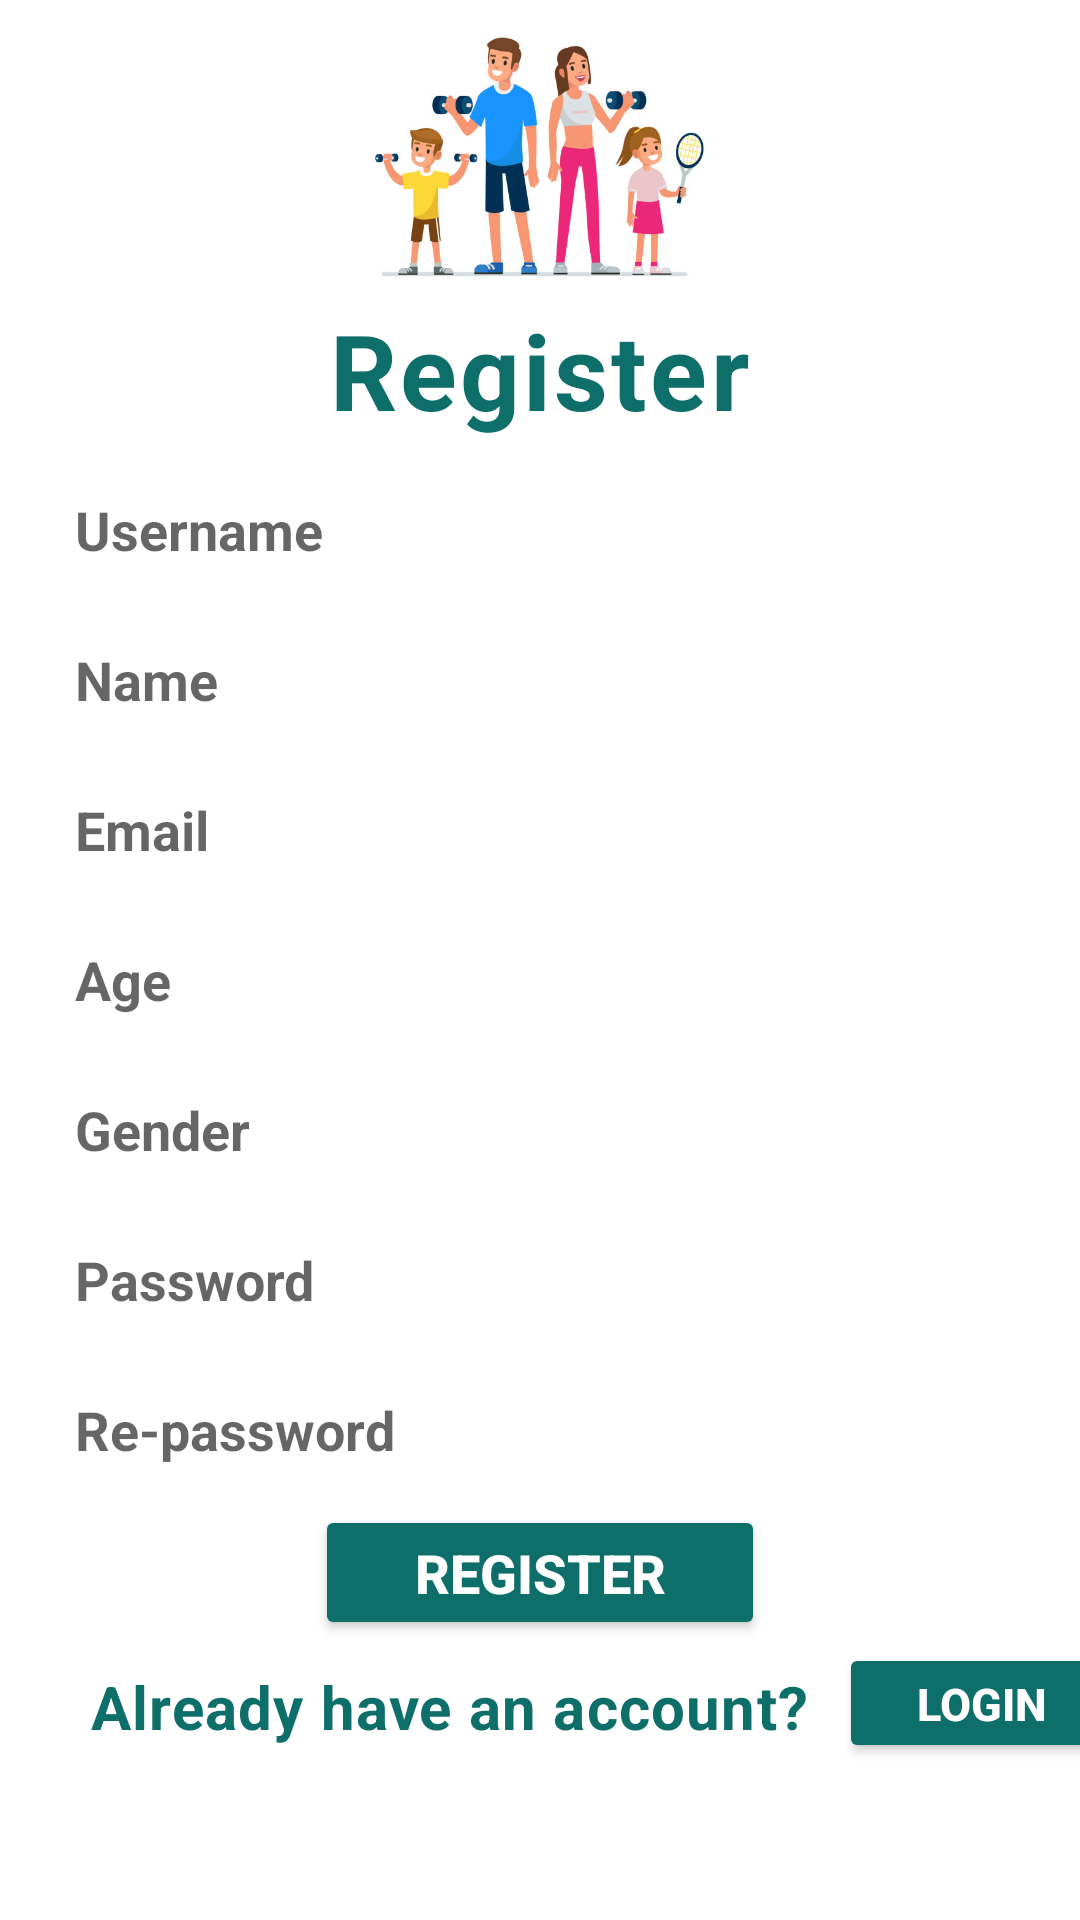

Where icons sit on this 1080*1920 app screen, as [x1, y1, x2, y2]:
fitness: [375, 37, 704, 276]
